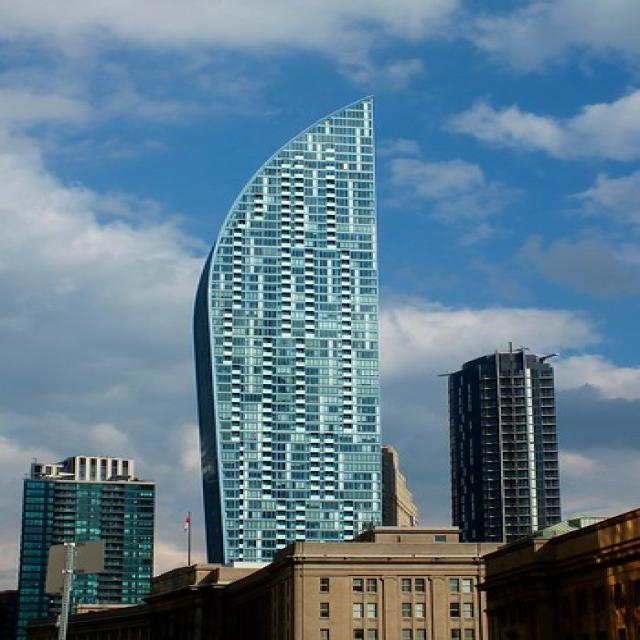building: (183, 86, 393, 577), (12, 448, 160, 635), (436, 348, 568, 550)
